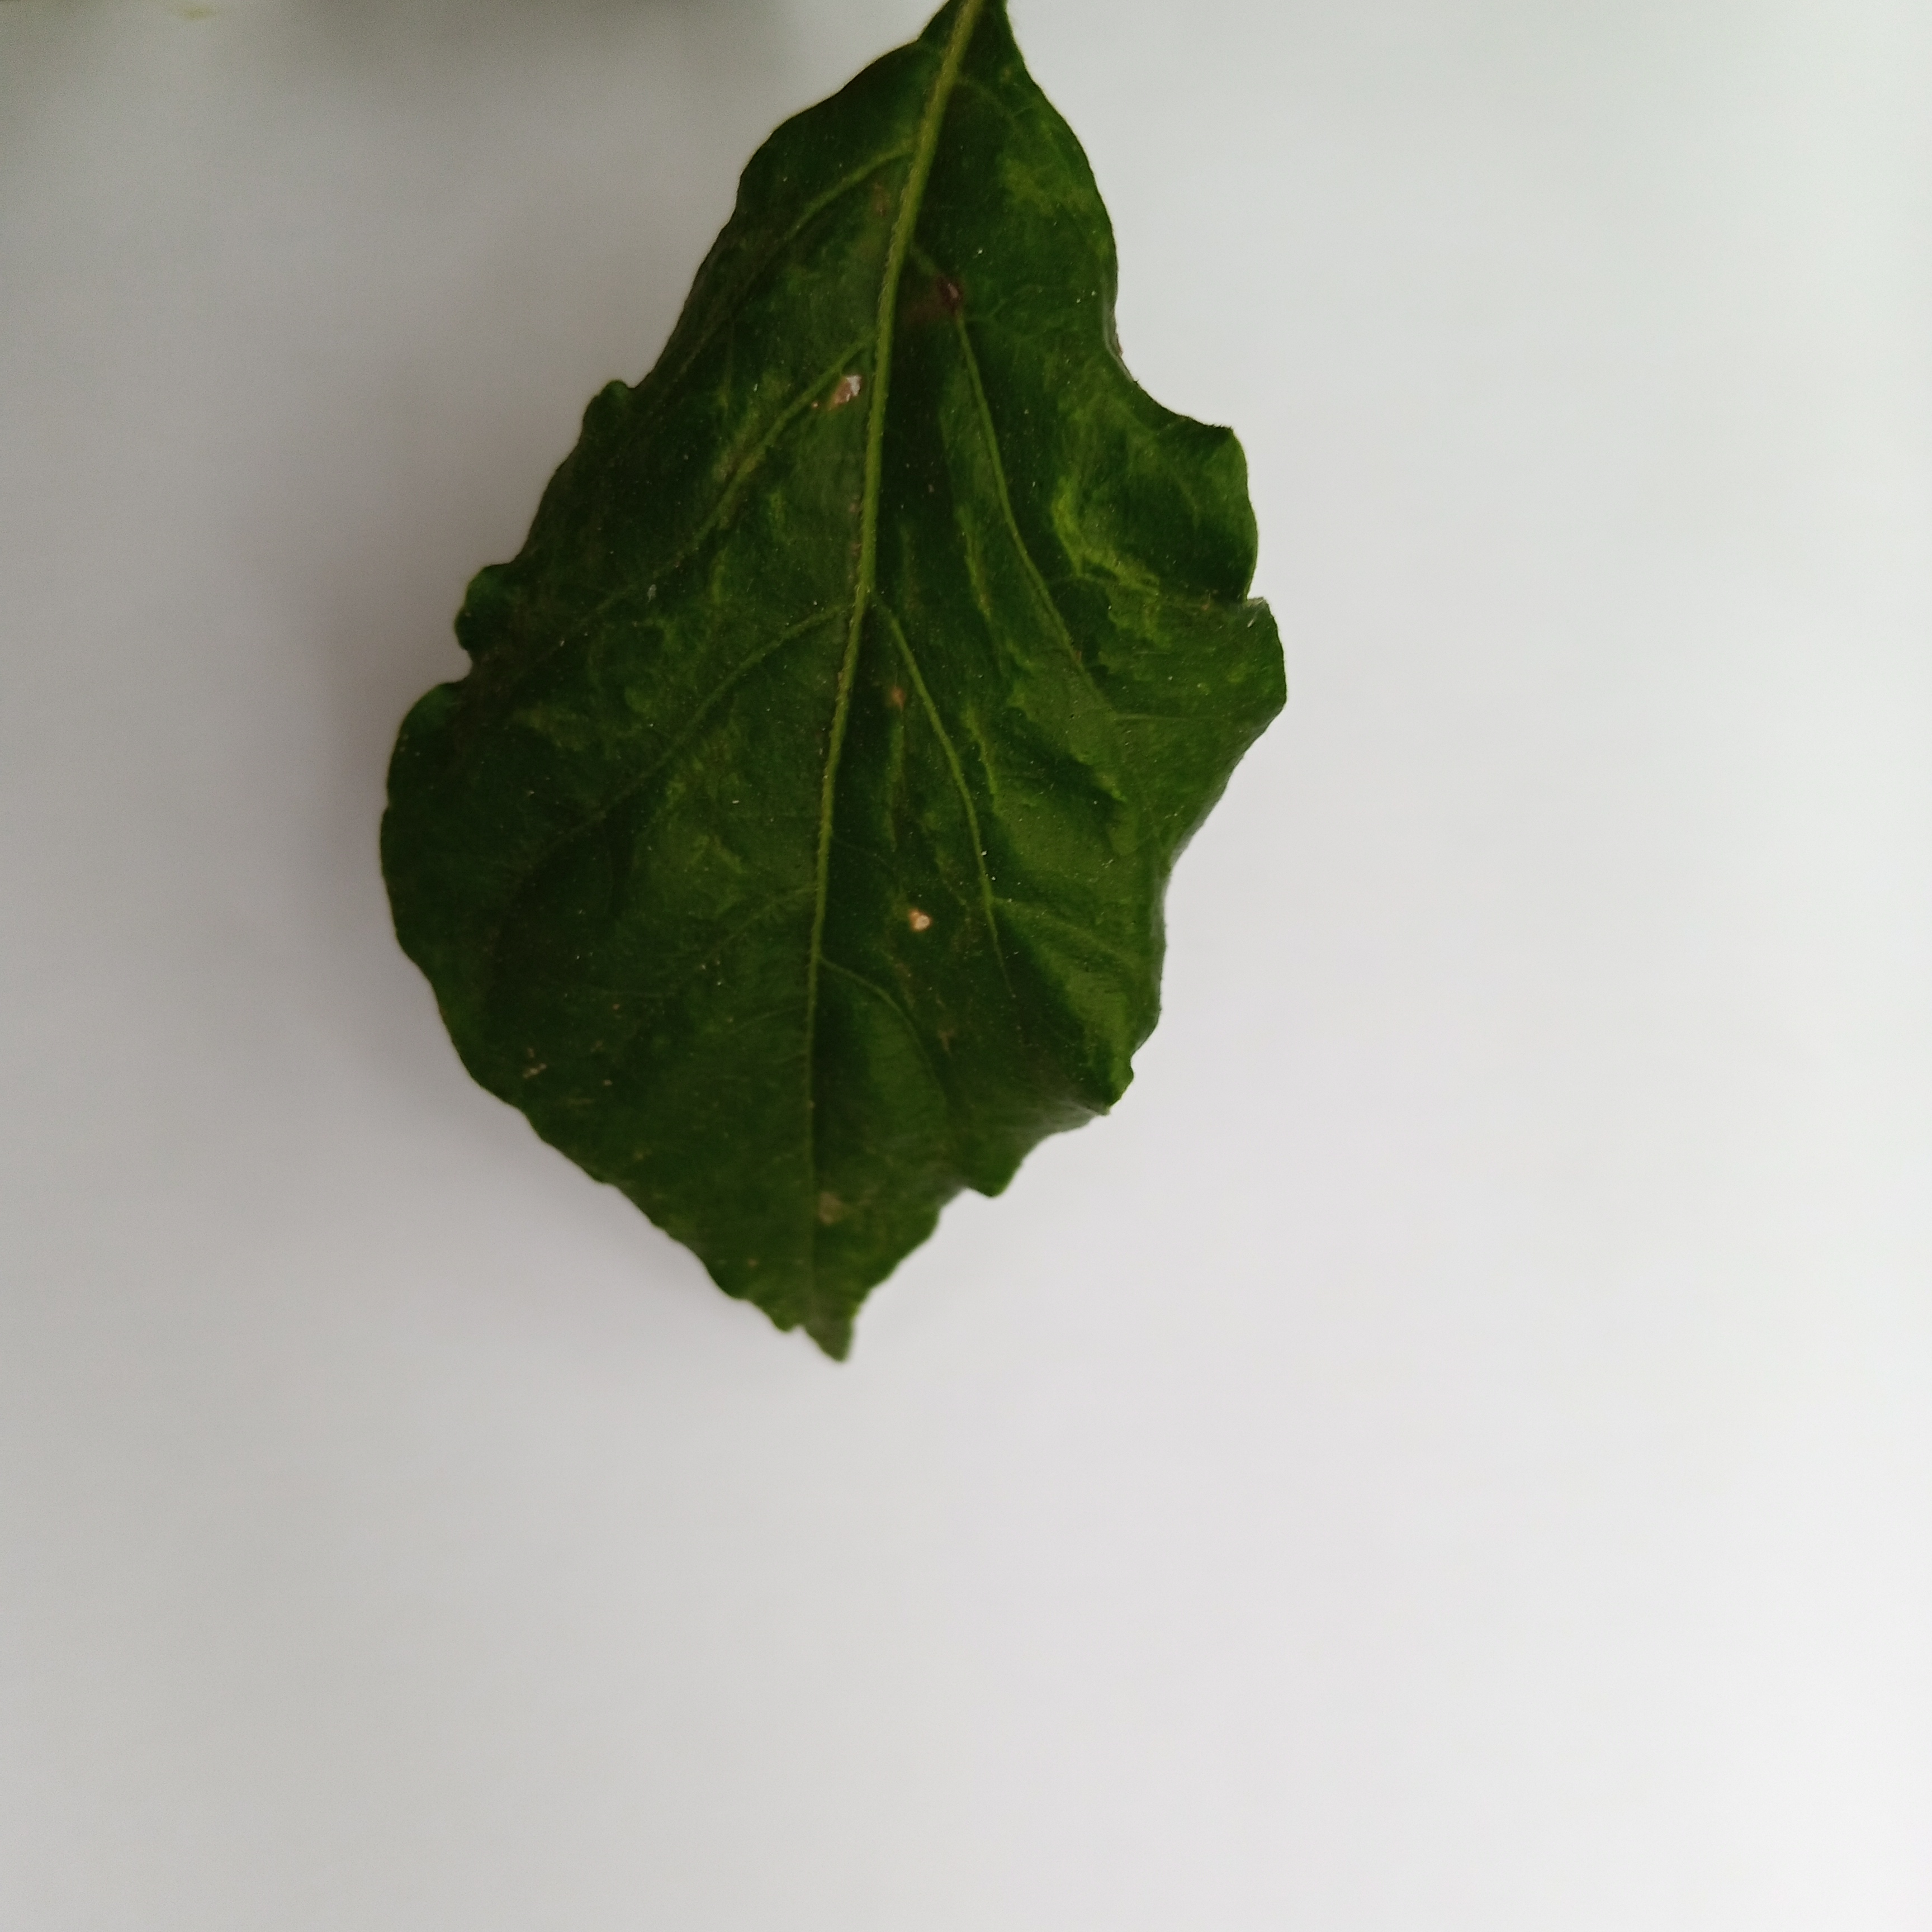Leaf: (304, 18, 1348, 1387)
